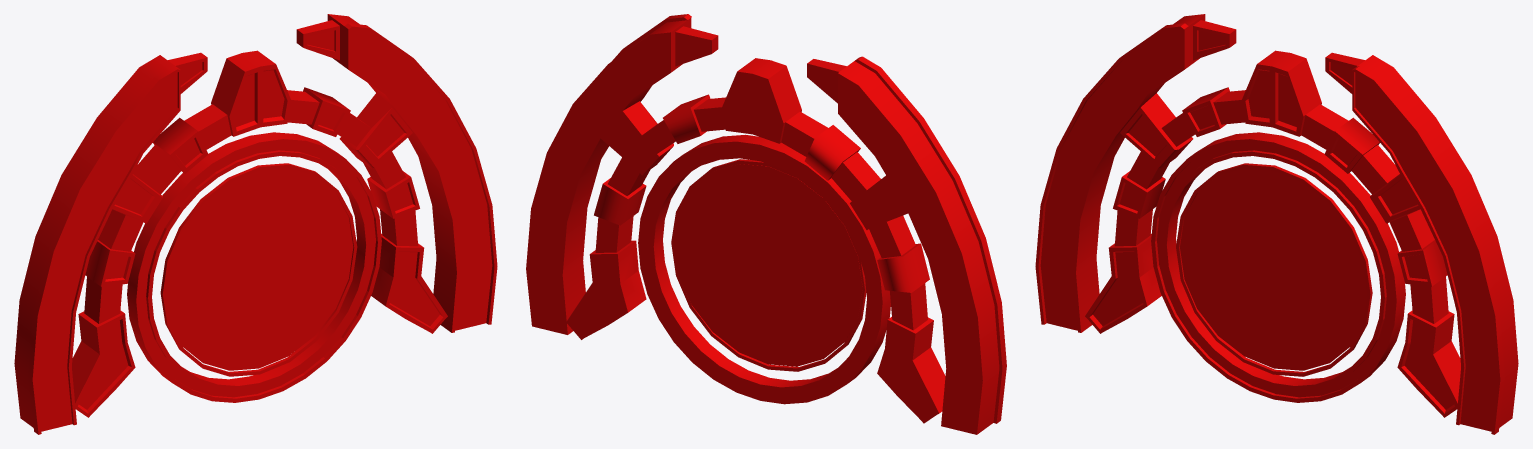
Rendered from BgMD_Ruins_B_gatel.fbx.
3 renders of one model, left to right at view 1: azimuth 30°, elevation 25°; view 2: azimuth 150°, elevation 25°; view 3: azimuth 330°, elevation 25°, orthographic.
Visible parts, largest first — view 1: BgMD_Ruins_B_glGate, portal; view 2: BgMD_Ruins_B_glGate, portal; view 3: BgMD_Ruins_B_glGate, portal.
Boxes of the visible parts, left/top/right/bottom form: BgMD_Ruins_B_glGate: left=14, top=14, right=497, bottom=434; portal: left=165, top=168, right=353, bottom=370; BgMD_Ruins_B_glGate: left=526, top=14, right=1006, bottom=434; portal: left=673, top=164, right=862, bottom=366; BgMD_Ruins_B_glGate: left=1035, top=14, right=1518, bottom=434; portal: left=1180, top=168, right=1367, bottom=370.
Size of the model in its own units: 940 by 688 by 80.49.
